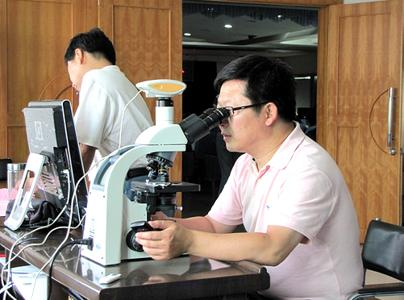person: (136, 53, 362, 300)
